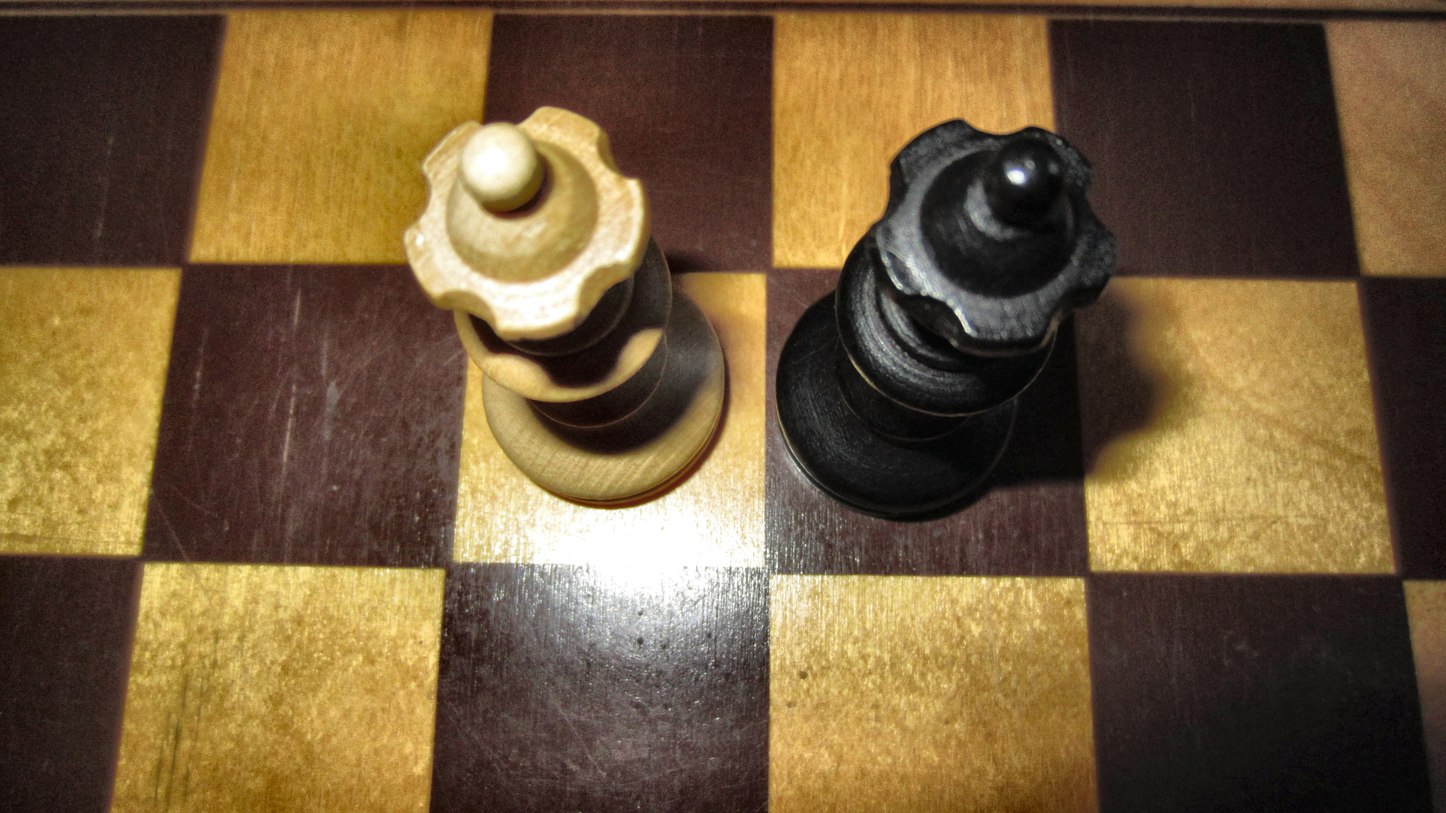black-queen: (774, 116, 1123, 523)
white-queen: (400, 103, 732, 511)
